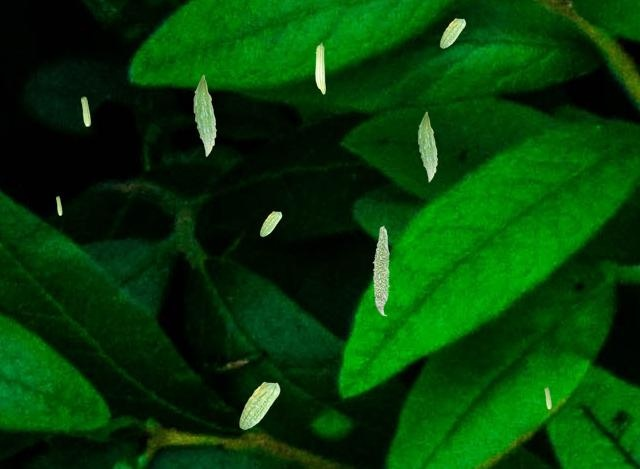ampalaya: (239, 381, 280, 430), (193, 74, 216, 157), (372, 225, 390, 316), (417, 111, 438, 182), (439, 18, 466, 48), (259, 211, 282, 237), (315, 42, 326, 94), (80, 96, 91, 126), (544, 386, 552, 409), (55, 195, 62, 215)
